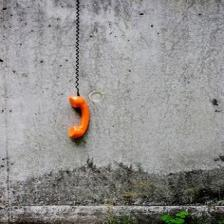orange: (68, 96, 90, 139)
